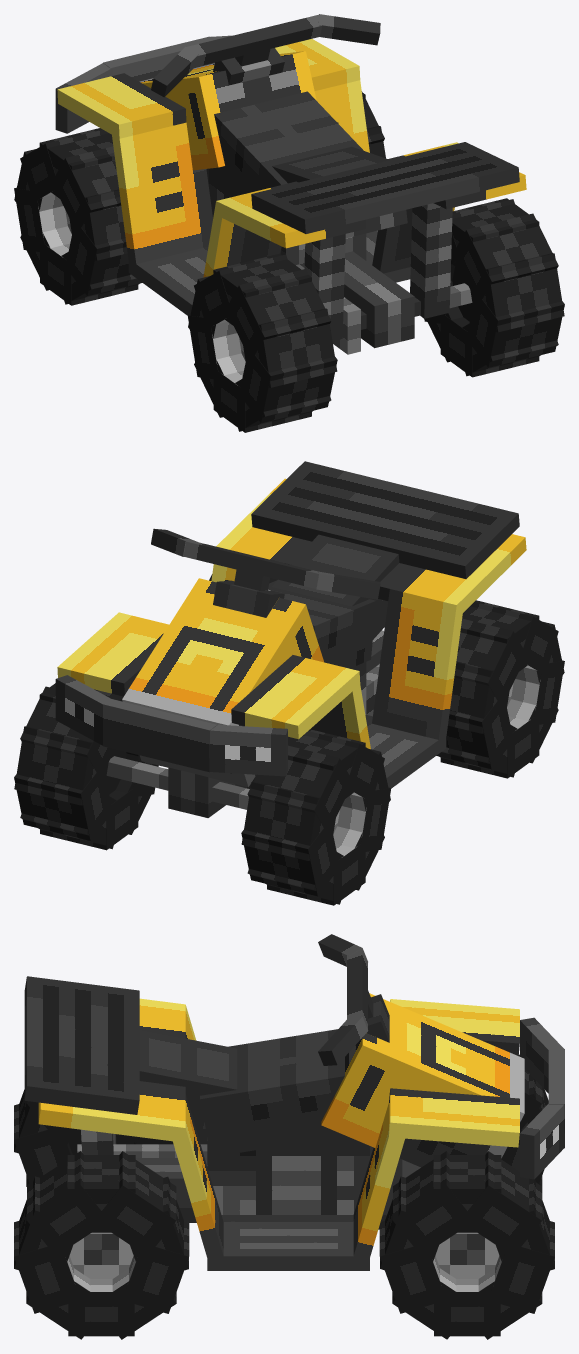
Rendered from drive_quad.glb.
The picture shows the model from 3 angles, top to bottom: view 1: azimuth 30°, elevation 25°; view 2: azimuth 150°, elevation 25°; view 3: azimuth 270°, elevation 25°; orthographic projection. The views are drawn at different scales.
Parts seen in each view (by area): view 1: Object_47, Object_51, Object_39, Object_37, Object_35, Object_120, Object_97, Object_15, Object_19, Object_95, Object_118, Object_105 (+41 smaller); view 2: Object_47, Object_37, Object_55, Object_35, Object_23, Object_33, Object_41, Object_45, Object_39, Object_145, Object_147, Object_78 (+33 smaller); view 3: Object_37, Object_47, Object_39, Object_11, Object_7, Object_33, Object_41, Object_43, Object_99, Object_76, Object_74, Object_97 (+35 smaller).
Boxes of the visible parts, left/top/right/bottom form: Object_47: left=251, top=142, right=519, bottom=233; Object_51: left=112, top=122, right=212, bottom=264; Object_39: left=212, top=91, right=363, bottom=195; Object_37: left=139, top=51, right=316, bottom=170; Object_35: left=57, top=73, right=186, bottom=138; Object_120: left=226, top=269, right=331, bottom=360; Object_97: left=453, top=213, right=558, bottom=298; Object_15: left=344, top=251, right=414, bottom=348; Object_19: left=410, top=203, right=452, bottom=318; Object_95: left=466, top=292, right=564, bottom=367; Object_118: left=239, top=347, right=337, bottom=423; Object_105: left=470, top=253, right=564, bottom=332; Object_47: left=251, top=461, right=519, bottom=578; Object_37: left=122, top=578, right=323, bottom=787; Object_55: left=372, top=589, right=462, bottom=739; Object_35: left=231, top=655, right=360, bottom=739; Object_23: left=103, top=698, right=217, bottom=772; Object_33: left=57, top=612, right=168, bottom=696; Object_41: left=272, top=534, right=399, bottom=639; Object_45: left=378, top=534, right=526, bottom=617; Object_39: left=268, top=580, right=376, bottom=668; Object_145: left=247, top=745, right=352, bottom=834; Object_147: left=241, top=827, right=339, bottom=896; Object_78: left=14, top=771, right=110, bottom=840; Object_37: left=321, top=993, right=524, bottom=1167; Object_47: left=24, top=976, right=139, bottom=1114; Object_39: left=200, top=1029, right=345, bottom=1157; Object_11: left=207, top=1136, right=402, bottom=1229; Object_7: left=207, top=1215, right=369, bottom=1270; Object_33: left=389, top=1088, right=519, bottom=1147; Object_41: left=139, top=1030, right=237, bottom=1144; Object_43: left=38, top=1081, right=185, bottom=1142; Object_99: left=95, top=1151, right=176, bottom=1256; Object_76: left=460, top=1151, right=542, bottom=1256; Object_74: left=393, top=1151, right=474, bottom=1252; Object_97: left=27, top=1151, right=108, bottom=1253.
Size of the model in its own units: 1.49 by 1.3 by 2.3.
1 material, 1 textured.
